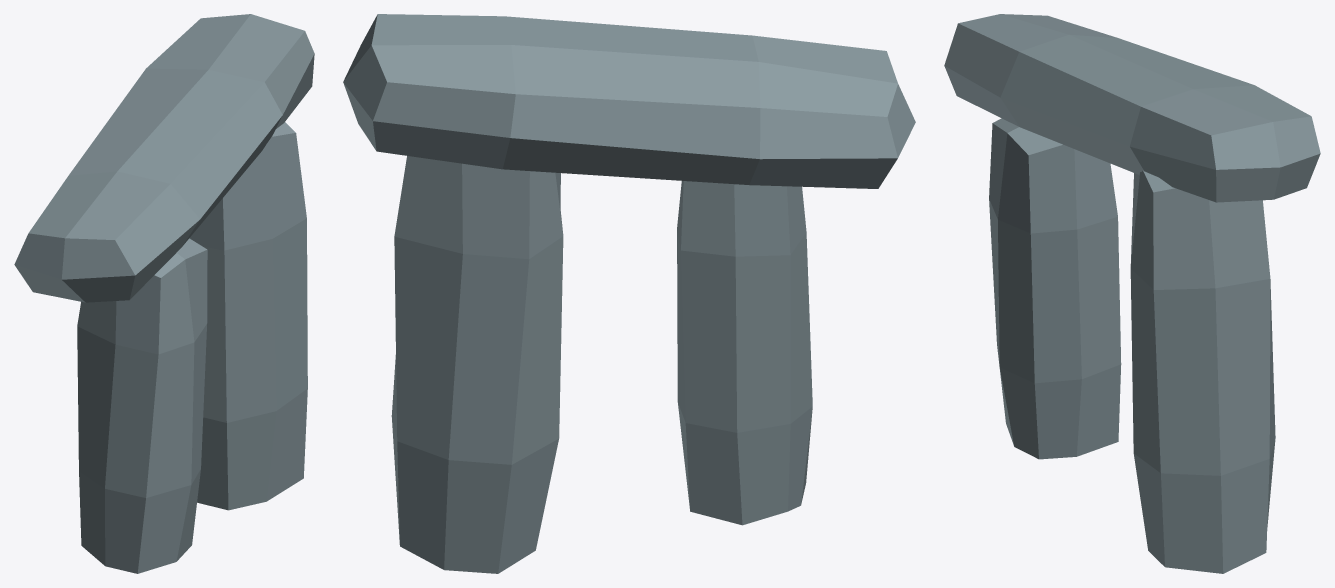
Rendered from Stonehenge_P1.obj.
3 views of the same model, side by side, from view 1: azimuth 30°, elevation 25°; view 2: azimuth 150°, elevation 25°; view 3: azimuth 270°, elevation 25° (orthographic). The views are drawn at different scales.
Visible parts, largest first — view 1: Cube.011_Cube.012, Cube.010_Cube.024, Cube.009_Cube.023; view 2: Cube.011_Cube.012, Cube.009_Cube.023, Cube.010_Cube.024; view 3: Cube.009_Cube.023, Cube.011_Cube.012, Cube.010_Cube.024.
Part boxes in pixels (<box>): Cube.011_Cube.012: <box>14,14,314,302</box>; Cube.010_Cube.024: <box>77,238,207,573</box>; Cube.009_Cube.023: <box>189,122,307,510</box>; Cube.011_Cube.012: <box>343,14,915,188</box>; Cube.009_Cube.023: <box>391,156,563,573</box>; Cube.010_Cube.024: <box>677,181,812,525</box>; Cube.009_Cube.023: <box>1130,170,1275,573</box>; Cube.011_Cube.012: <box>944,14,1320,202</box>; Cube.010_Cube.024: <box>989,118,1121,459</box>.
Bounding box in the file's own units: 77.37 × 88.43 × 63.92.
1 material, 1 textured.
